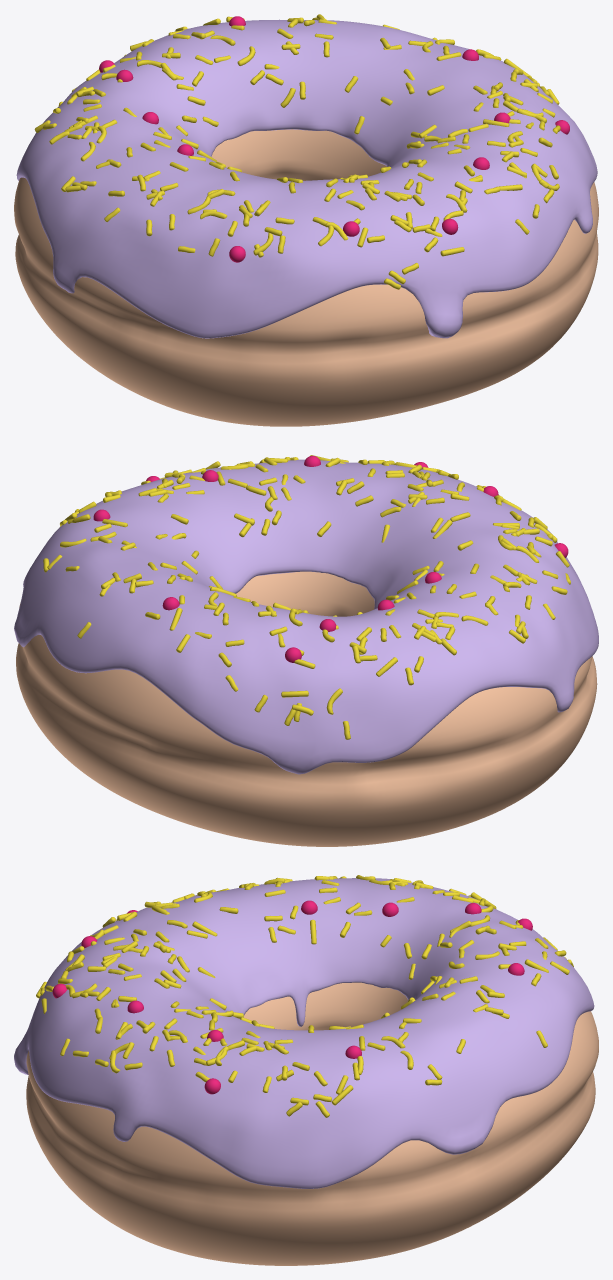
Rendered from donut.fbx.
3 renders of one model, top to bottom at view 1: azimuth 30°, elevation 25°; view 2: azimuth 150°, elevation 25°; view 3: azimuth 270°, elevation 25°, orthographic.
Parts seen in each view (by area): view 1: Icing, Donut; view 2: Icing, Donut; view 3: Icing, Donut.
Boxes of the visible parts, x1,y1,x2,y2 form: Icing: [16, 19, 597, 338]; Donut: [14, 129, 598, 426]; Icing: [14, 459, 598, 774]; Donut: [16, 571, 597, 846]; Icing: [14, 878, 594, 1188]; Donut: [26, 982, 598, 1265].
Bounding box in the file's own units: 16.49 × 7.27 × 16.3.
